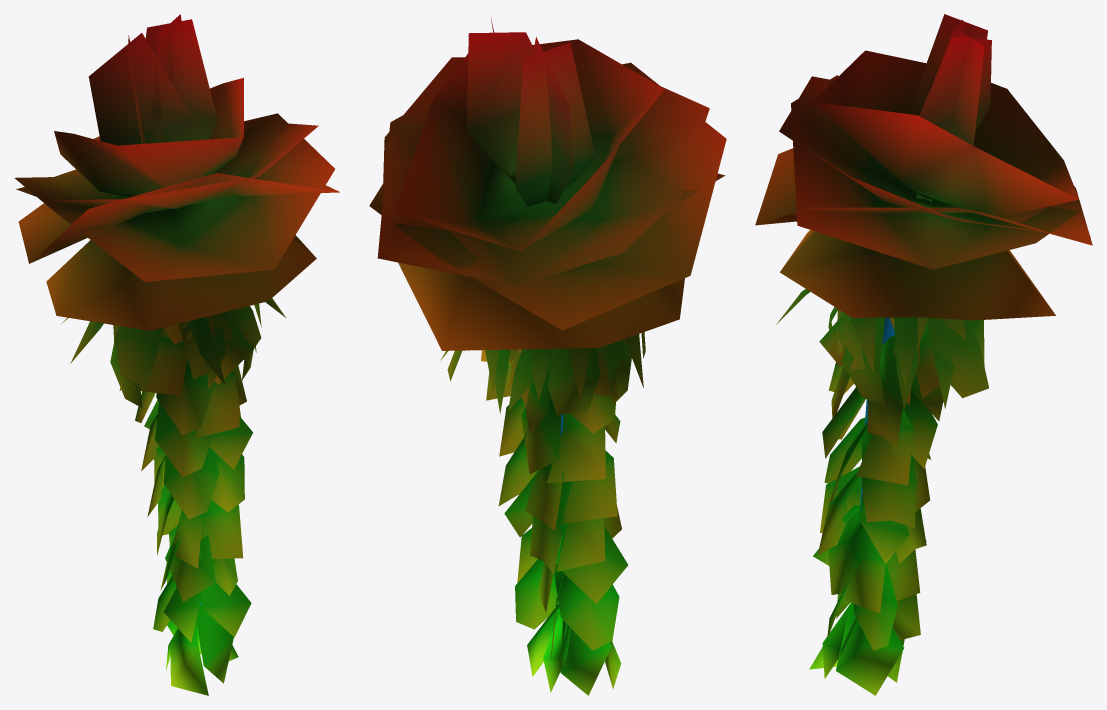
The model's file is Joshua3.fbx.
The picture shows the model from 3 angles, left to right: view 1: azimuth 30°, elevation 25°; view 2: azimuth 150°, elevation 25°; view 3: azimuth 270°, elevation 25°; orthographic projection. The views are drawn at different scales.
Parts seen in each view (by area): view 1: Joshua3_LOD0; view 2: Joshua3_LOD0; view 3: Joshua3_LOD0.
Boxes of the visible parts, <box> form: Joshua3_LOD0: <box>14,14,339,695</box>; Joshua3_LOD0: <box>369,17,726,695</box>; Joshua3_LOD0: <box>755,14,1092,695</box>.
Size of what is drawn, in the model's own units: 103 by 226 by 105.
